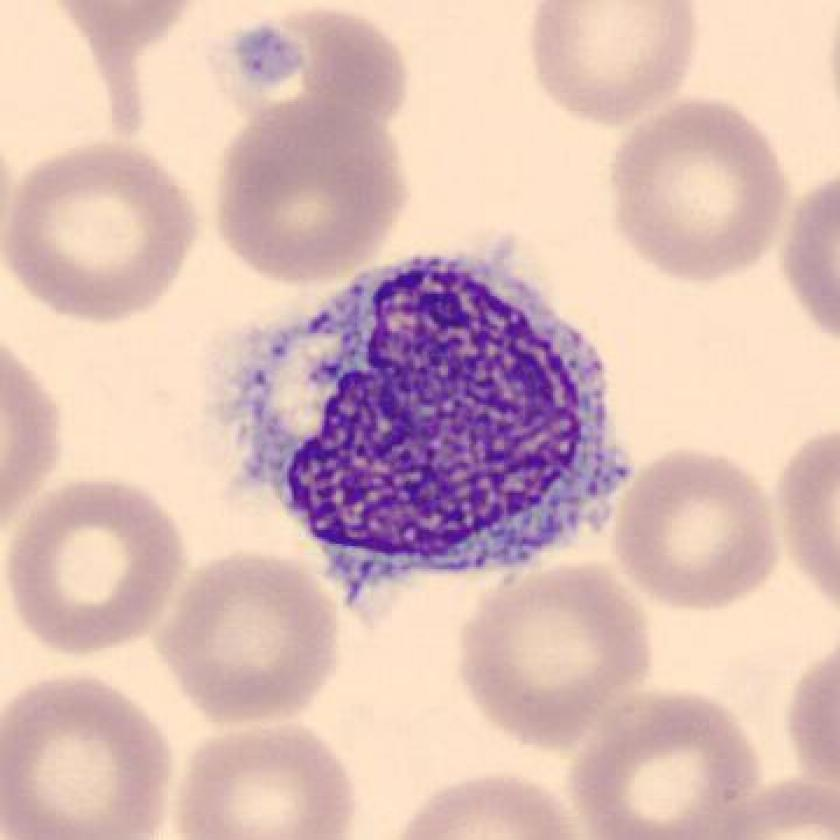monocyte: (200, 226, 648, 624)
